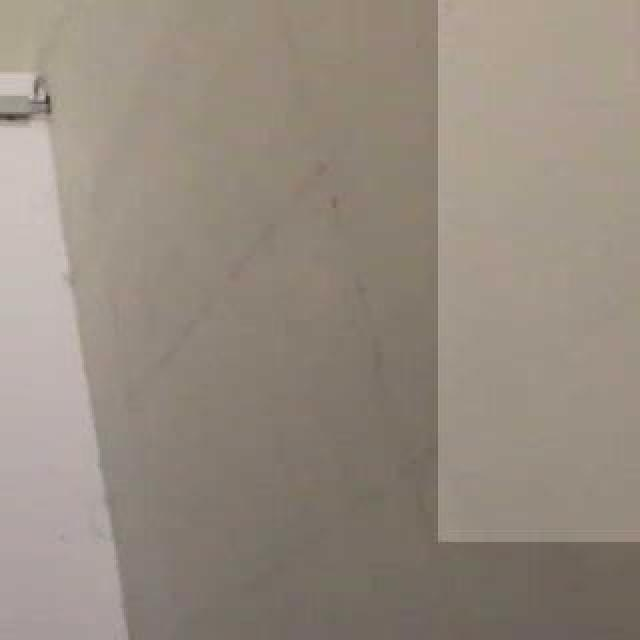fluorescent tube: (464, 0, 640, 540)
